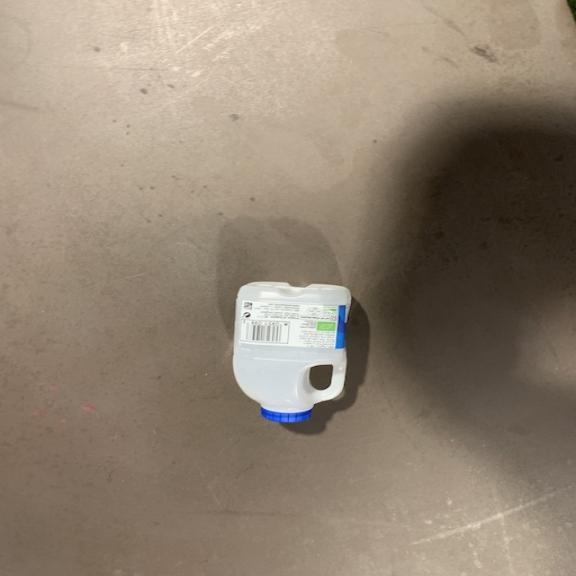Plastik: (227, 278, 364, 446)
